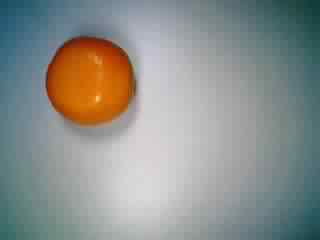orange: (39, 34, 140, 131)
